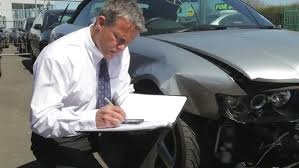Broken-glass: (218, 86, 298, 120)
Dent: (166, 74, 218, 118)
Smashed: (158, 52, 299, 168)
